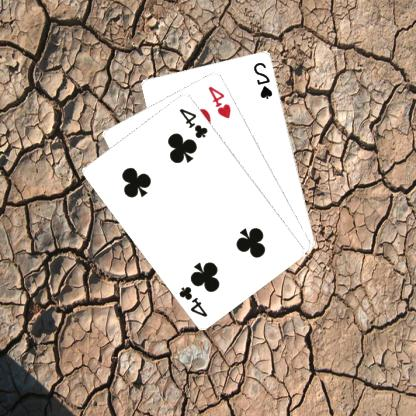2S: (253, 59, 276, 101)
4C: (178, 105, 211, 140), (178, 283, 211, 318)
4H: (208, 83, 235, 120)
